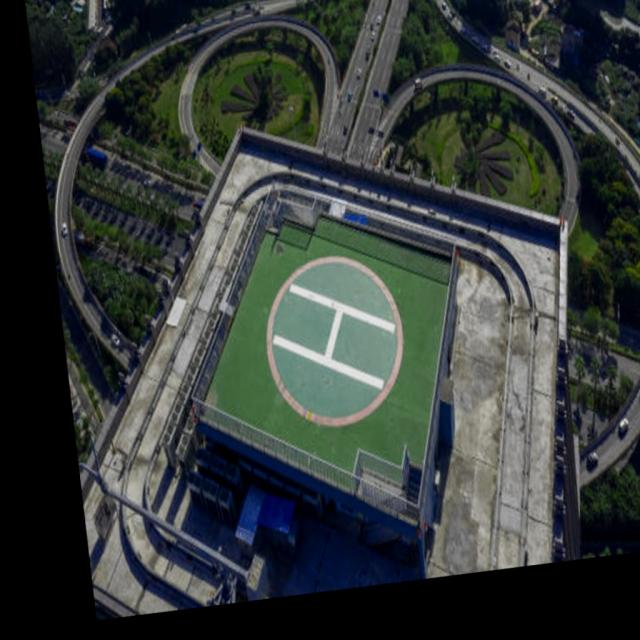helipad: (259, 249, 406, 430)
